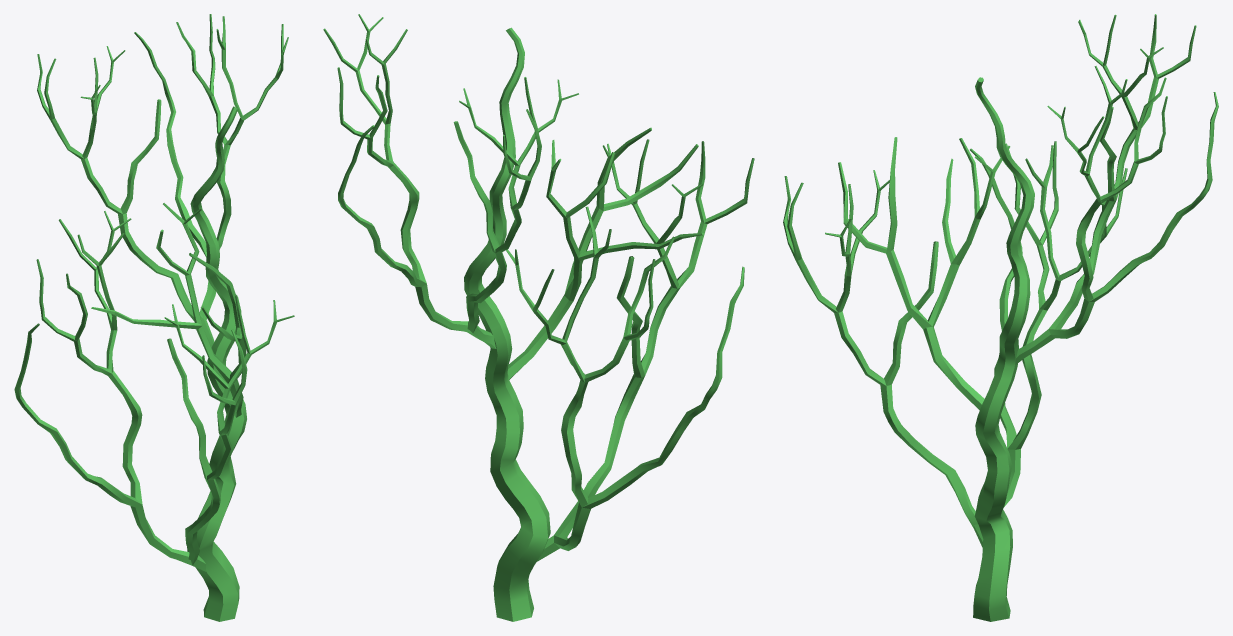
File: jungle_wiggle_tree_A_curved.fbx
3 renders of one model, left to right at view 1: azimuth 30°, elevation 25°; view 2: azimuth 150°, elevation 25°; view 3: azimuth 270°, elevation 25°, orthographic. The views are drawn at different scales.
Visible parts, largest first — view 1: jungle_wiggle_tree_A_curved_branch_A, jungle_wiggle_tree_A_curved_branch_C, jungle_wiggle_tree_A_curved_trunk, jungle_wiggle_tree_A_curved_branch_B; view 2: jungle_wiggle_tree_A_curved_branch_A, jungle_wiggle_tree_A_curved_trunk, jungle_wiggle_tree_A_curved_branch_C, jungle_wiggle_tree_A_curved_branch_B; view 3: jungle_wiggle_tree_A_curved_branch_A, jungle_wiggle_tree_A_curved_trunk, jungle_wiggle_tree_A_curved_branch_C, jungle_wiggle_tree_A_curved_branch_B.
Part boxes in pixels (x1,y1,x2,y2): jungle_wiggle_tree_A_curved_branch_A: (14, 211, 294, 571); jungle_wiggle_tree_A_curved_branch_C: (37, 14, 288, 347); jungle_wiggle_tree_A_curved_trunk: (187, 106, 246, 621); jungle_wiggle_tree_A_curved_branch_B: (91, 203, 246, 417); jungle_wiggle_tree_A_curved_branch_A: (506, 139, 754, 561); jungle_wiggle_tree_A_curved_trunk: (464, 27, 550, 621); jungle_wiggle_tree_A_curved_branch_C: (323, 14, 578, 348); jungle_wiggle_tree_A_curved_branch_B: (507, 127, 703, 379); jungle_wiggle_tree_A_curved_branch_A: (783, 141, 1127, 547); jungle_wiggle_tree_A_curved_trunk: (973, 77, 1034, 621); jungle_wiggle_tree_A_curved_branch_C: (1015, 14, 1218, 364); jungle_wiggle_tree_A_curved_branch_B: (838, 137, 1010, 410).
Bounding box in the file's own units: 604 × 994 × 685.
